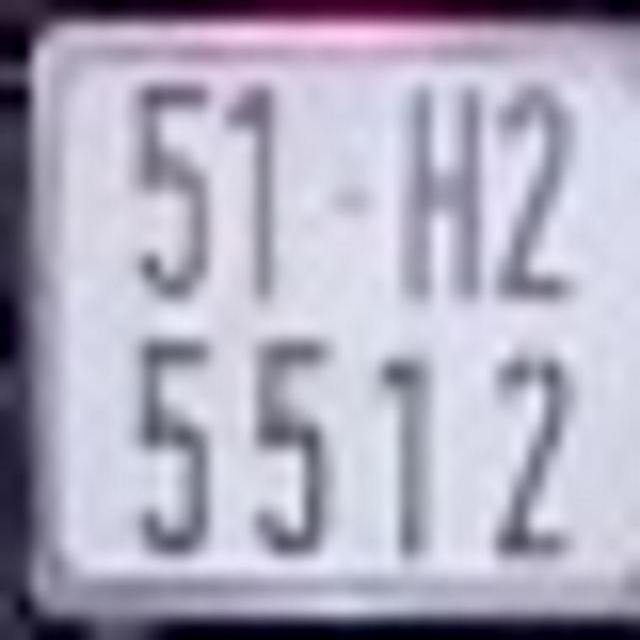1: (382, 348, 437, 558), (231, 67, 281, 295)
2: (478, 343, 580, 563), (498, 71, 577, 302)
5: (132, 68, 216, 303), (250, 326, 330, 558), (140, 323, 218, 559)
H: (405, 72, 487, 299)
